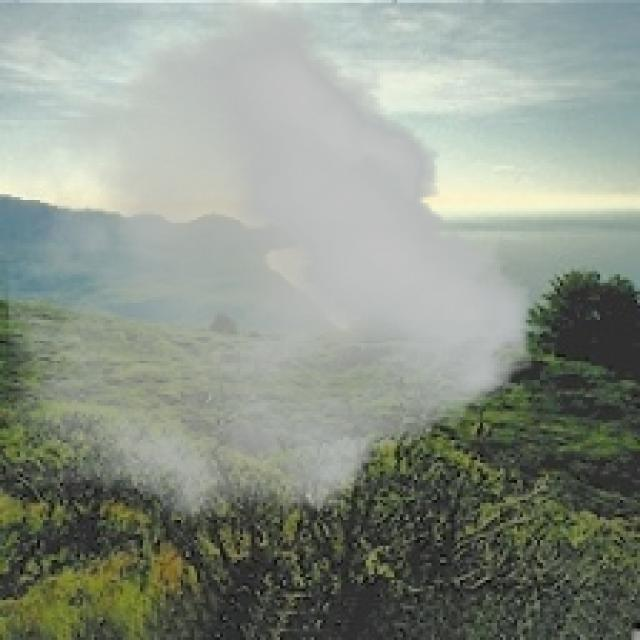smoke: (9, 0, 532, 520)
